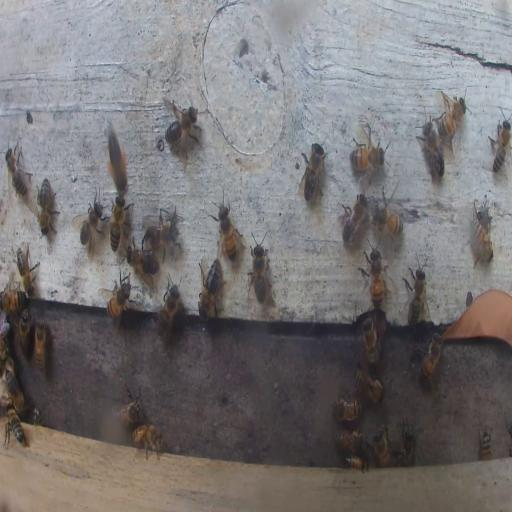bee: (75, 187, 107, 255), (104, 119, 129, 199), (161, 100, 199, 150), (298, 141, 327, 202), (418, 116, 446, 179), (438, 90, 468, 148), (404, 258, 428, 330), (144, 207, 178, 256), (196, 259, 223, 319), (247, 230, 269, 302), (488, 111, 512, 175), (155, 278, 181, 336), (471, 198, 493, 264), (216, 198, 239, 261), (102, 273, 132, 321), (5, 146, 31, 200), (340, 193, 368, 243), (36, 178, 60, 236), (110, 390, 144, 430), (374, 190, 404, 234), (418, 333, 444, 383), (130, 422, 164, 460), (109, 192, 129, 256), (364, 244, 384, 308), (16, 243, 40, 296), (349, 141, 387, 170), (354, 369, 384, 404), (2, 367, 24, 412), (397, 416, 416, 468), (331, 429, 368, 455), (127, 243, 156, 274), (363, 316, 380, 368), (34, 315, 48, 374), (332, 396, 362, 422), (6, 410, 26, 448), (373, 426, 391, 468), (2, 286, 26, 314), (18, 308, 31, 353), (342, 454, 370, 470), (479, 429, 493, 460), (28, 406, 42, 425)
